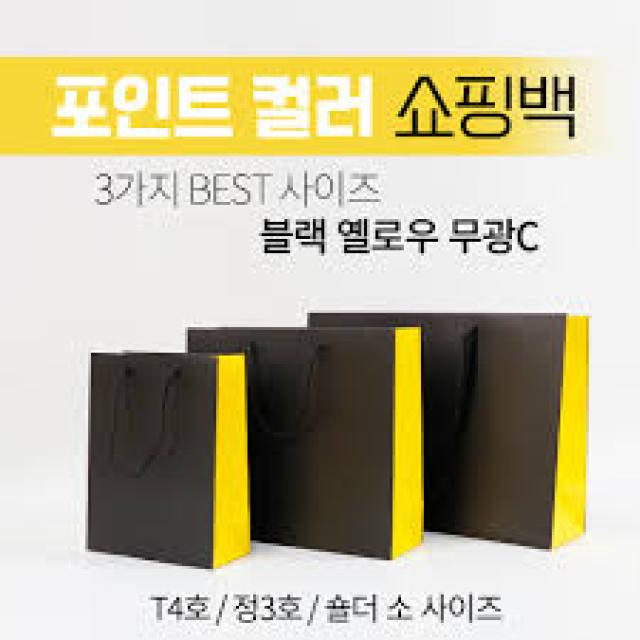paper bag: (297, 298, 602, 556), (183, 320, 444, 578), (68, 340, 260, 580)
